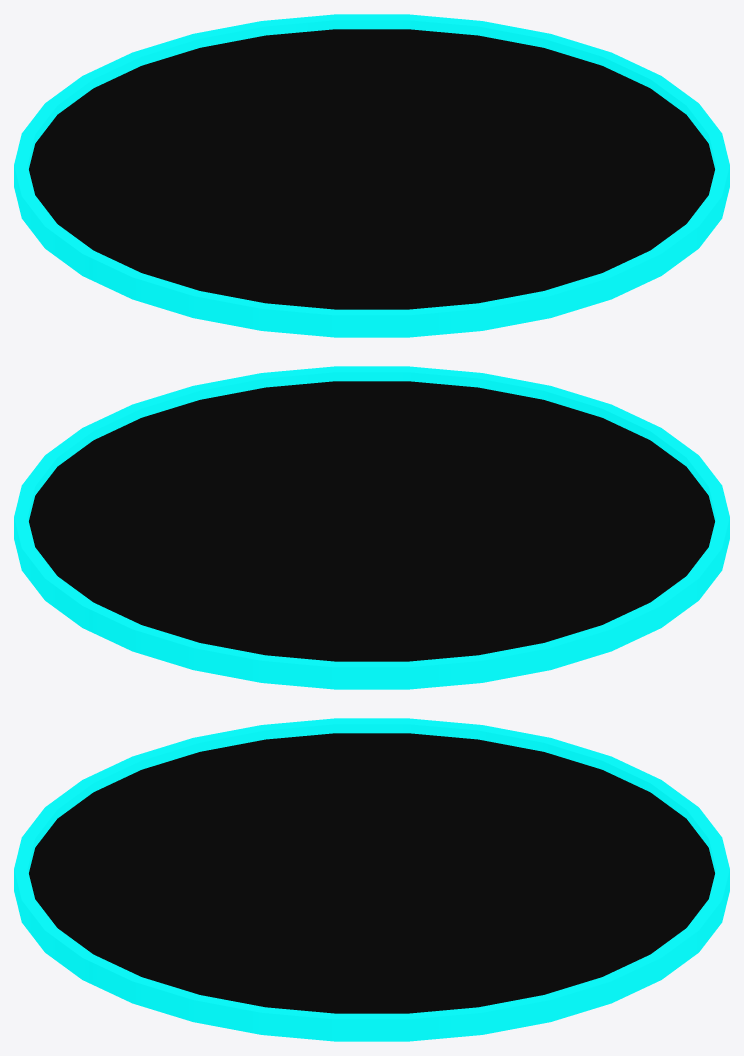
The model's file is SFI0510007.fbx.
The picture shows the model from 3 angles, top to bottom: view 1: azimuth 30°, elevation 25°; view 2: azimuth 150°, elevation 25°; view 3: azimuth 270°, elevation 25°; orthographic projection.
Parts seen in each view (by area): view 1: smSFI0510007; view 2: smSFI0510007; view 3: smSFI0510007.
Part boxes in pixels (box(x1,y1,x2,y2)): smSFI0510007: box(14, 14, 729, 337); smSFI0510007: box(14, 366, 729, 689); smSFI0510007: box(14, 718, 729, 1041).
Size of the model in its own units: 199 by 6.83 by 200.
